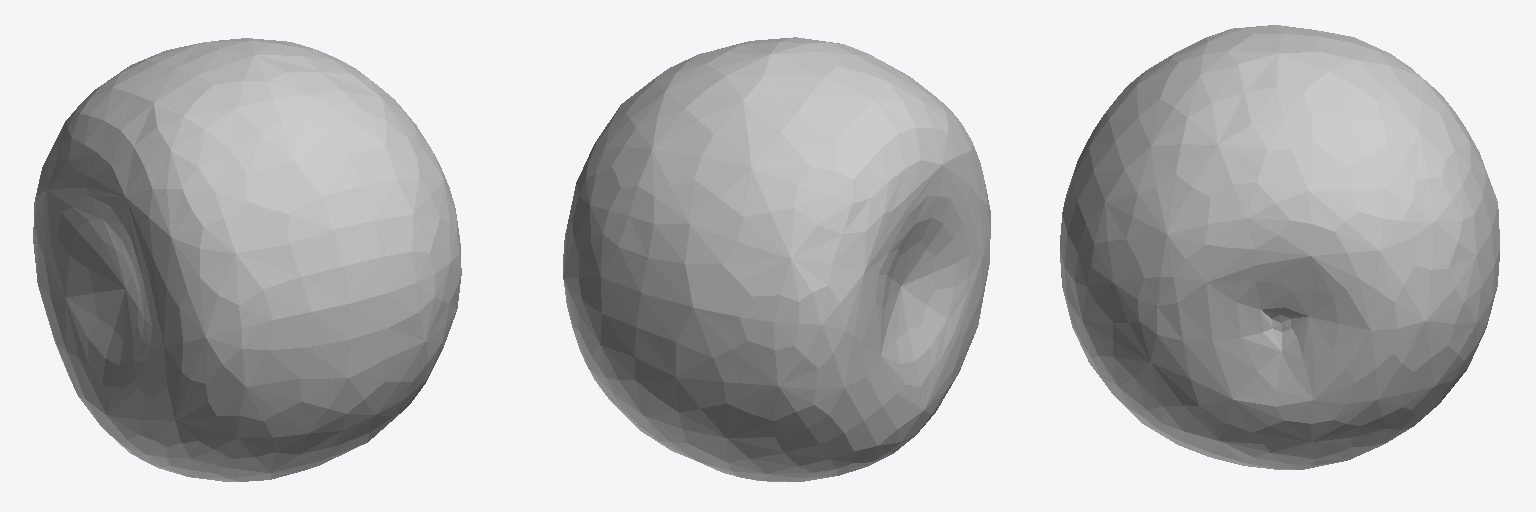
The model's file is AppleFruit_New.obj.
The picture shows the model from 3 angles: view 1: azimuth 30°, elevation 25°; view 2: azimuth 150°, elevation 25°; view 3: azimuth 270°, elevation 25°; orthographic projection.
Visible parts, largest first — view 1: fruit; view 2: fruit; view 3: fruit.
Part boxes in pixels (left/top/right/bottom): fruit: left=33, top=38, right=461, bottom=481; fruit: left=563, top=37, right=990, bottom=481; fruit: left=1060, top=25, right=1499, bottom=469.
Size of the model in its own units: 0.7805 by 0.9781 by 0.9685.